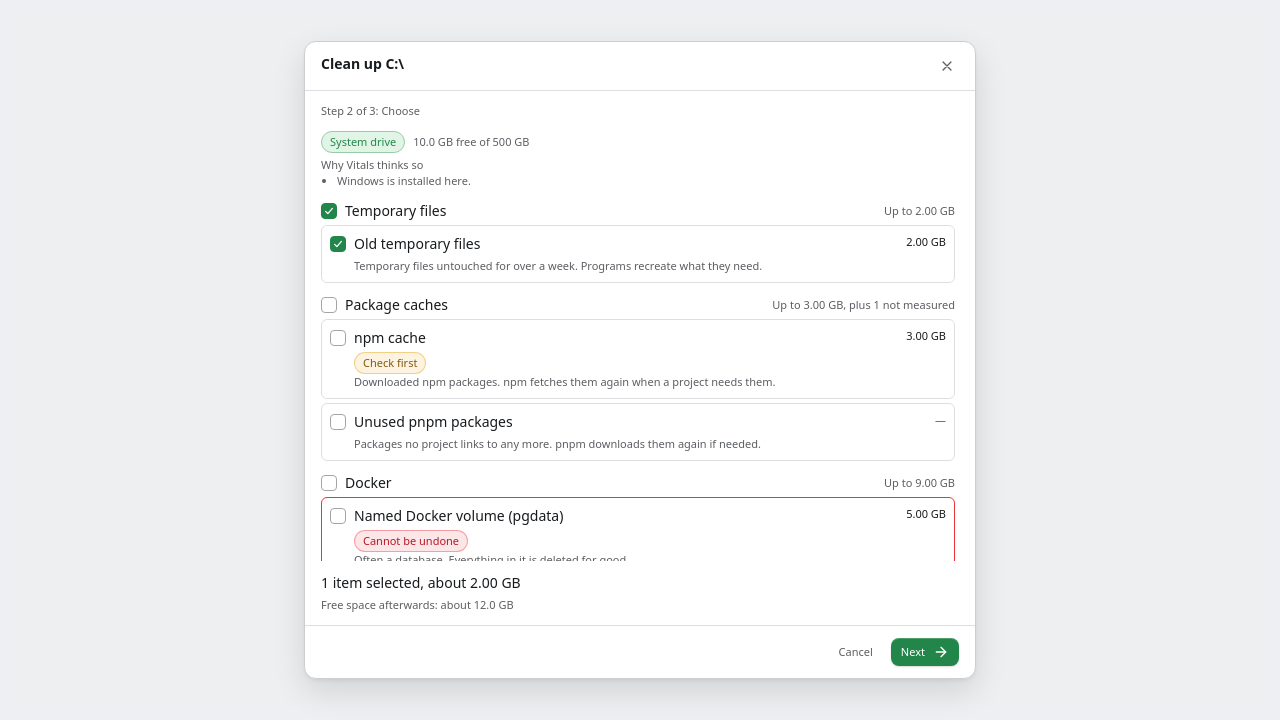
Test: drive clean-up wizard › reports each item, the drive gain and the programs that did not restart
This screenshot has width=1280, height=720.
Check: the element "Temporary files" is shown, box [321,201,955,283]
Click the button "Next" at (925, 652), box [891,638,959,666]
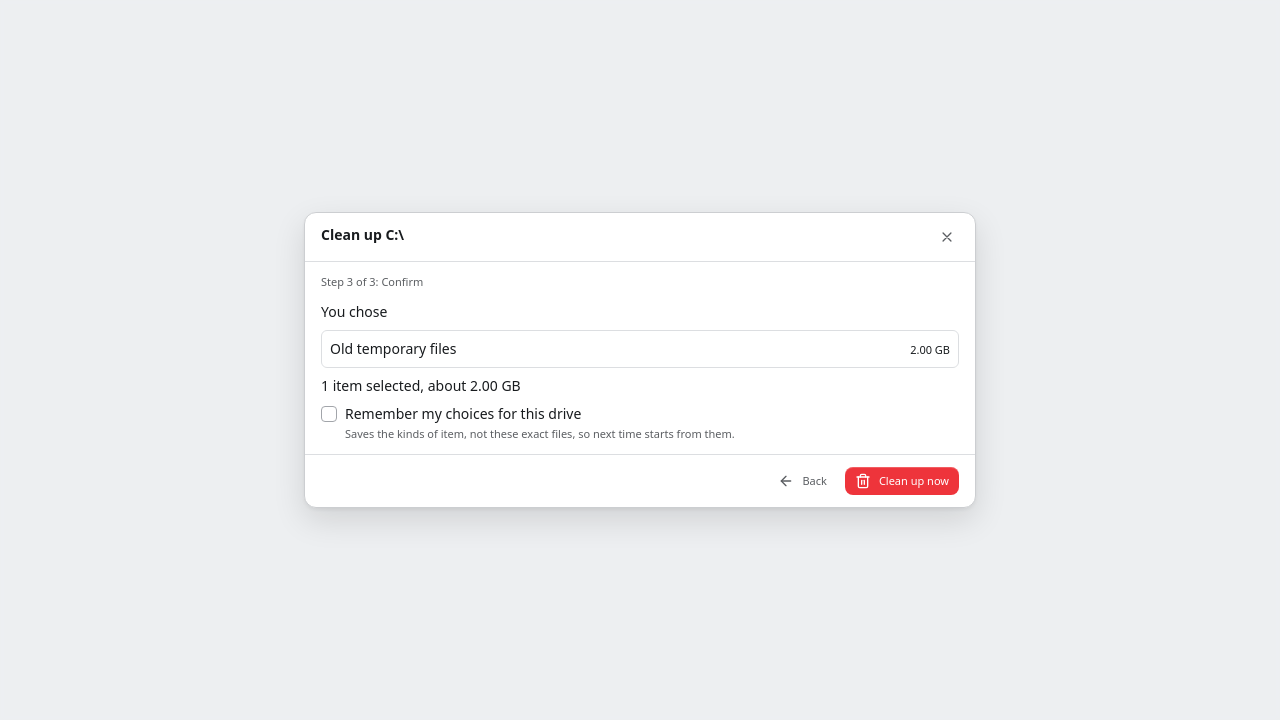
Click the button "Clean up now" at (902, 481), box [845,467,959,495]
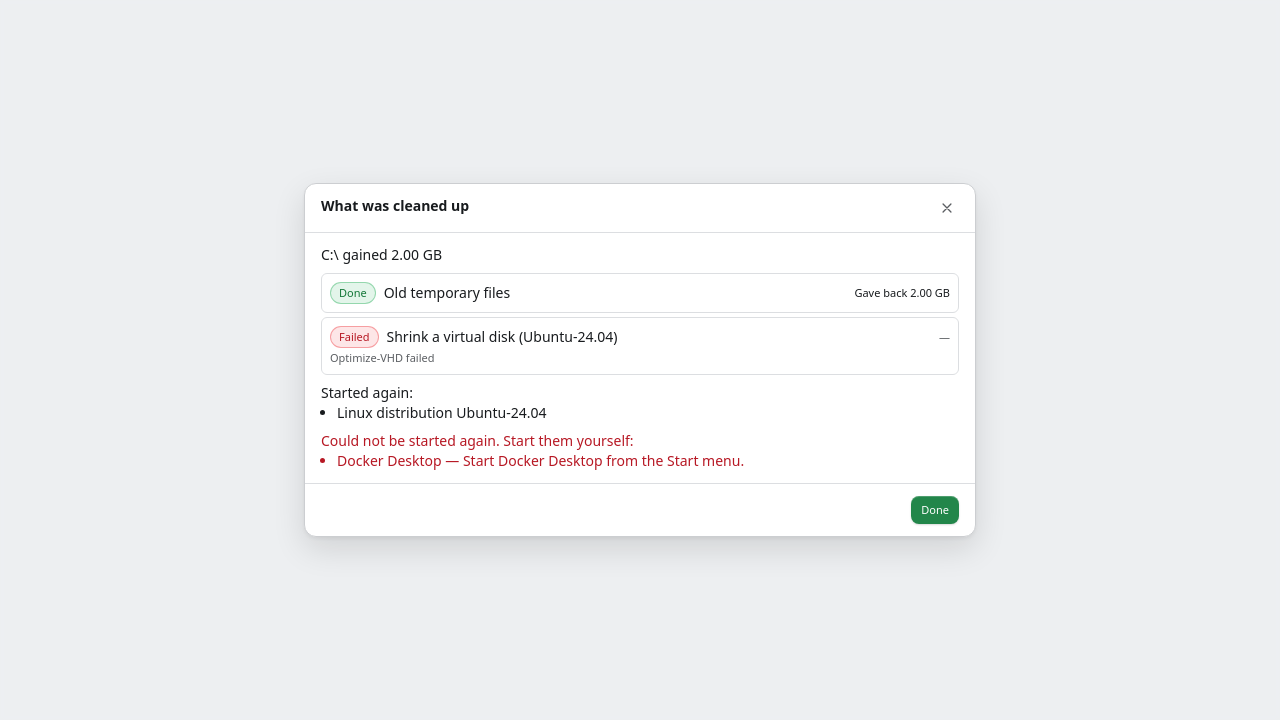
Check: the dialog "What was cleaned up" is shown, box [304,183,976,537]
Check: the text "C:\\ gained 2.00 GB" is shown, box [321,245,442,264]
Check: the text "Gave back 2.00 GB" is shown, box [854,285,950,301]
